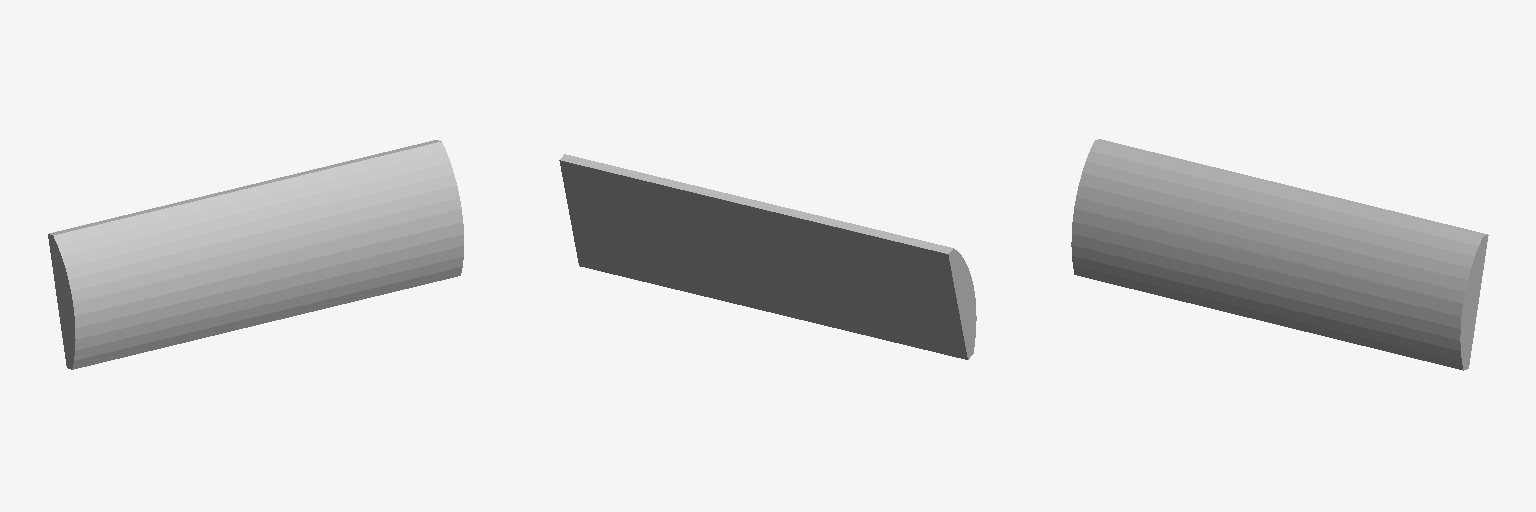
The model's file is original-74.obj.
The picture shows the model from 3 angles: view 1: azimuth 30°, elevation 25°; view 2: azimuth 150°, elevation 25°; view 3: azimuth 330°, elevation 25°; orthographic projection.
Visible parts, largest first — view 1: group_37/ID492#ID492; view 2: group_37/ID492#ID492; view 3: group_37/ID492#ID492.
Boxes of the visible parts, x1,y1,x2,y2 form: group_37/ID492#ID492: [48, 140, 463, 369]; group_37/ID492#ID492: [559, 154, 976, 359]; group_37/ID492#ID492: [1071, 139, 1488, 370].
Size of the model in its own units: 0.0501 by 0.0151 by 0.0063.